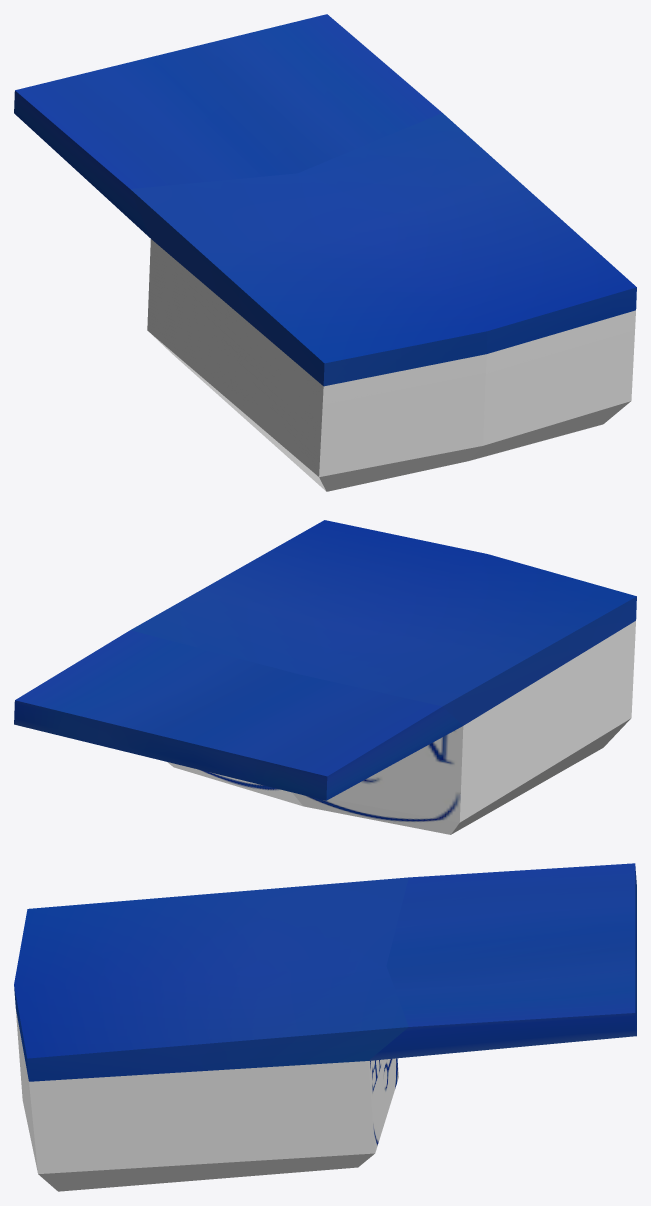
File: marine_cap.obj
3 renders of one model, top to bottom at view 1: azimuth 30°, elevation 25°; view 2: azimuth 150°, elevation 25°; view 3: azimuth 270°, elevation 25°, orthographic.
Visible parts, largest first — view 1: Cube.002; view 2: Cube.002; view 3: Cube.002.
Boxes of the visible parts, left/top/right/bottom form: Cube.002: left=14, top=14, right=636, bottom=491; Cube.002: left=14, top=520, right=636, bottom=834; Cube.002: left=14, top=863, right=636, bottom=1191.
Bounding box in the file's own units: 0.5276 × 0.3085 × 0.9283.
